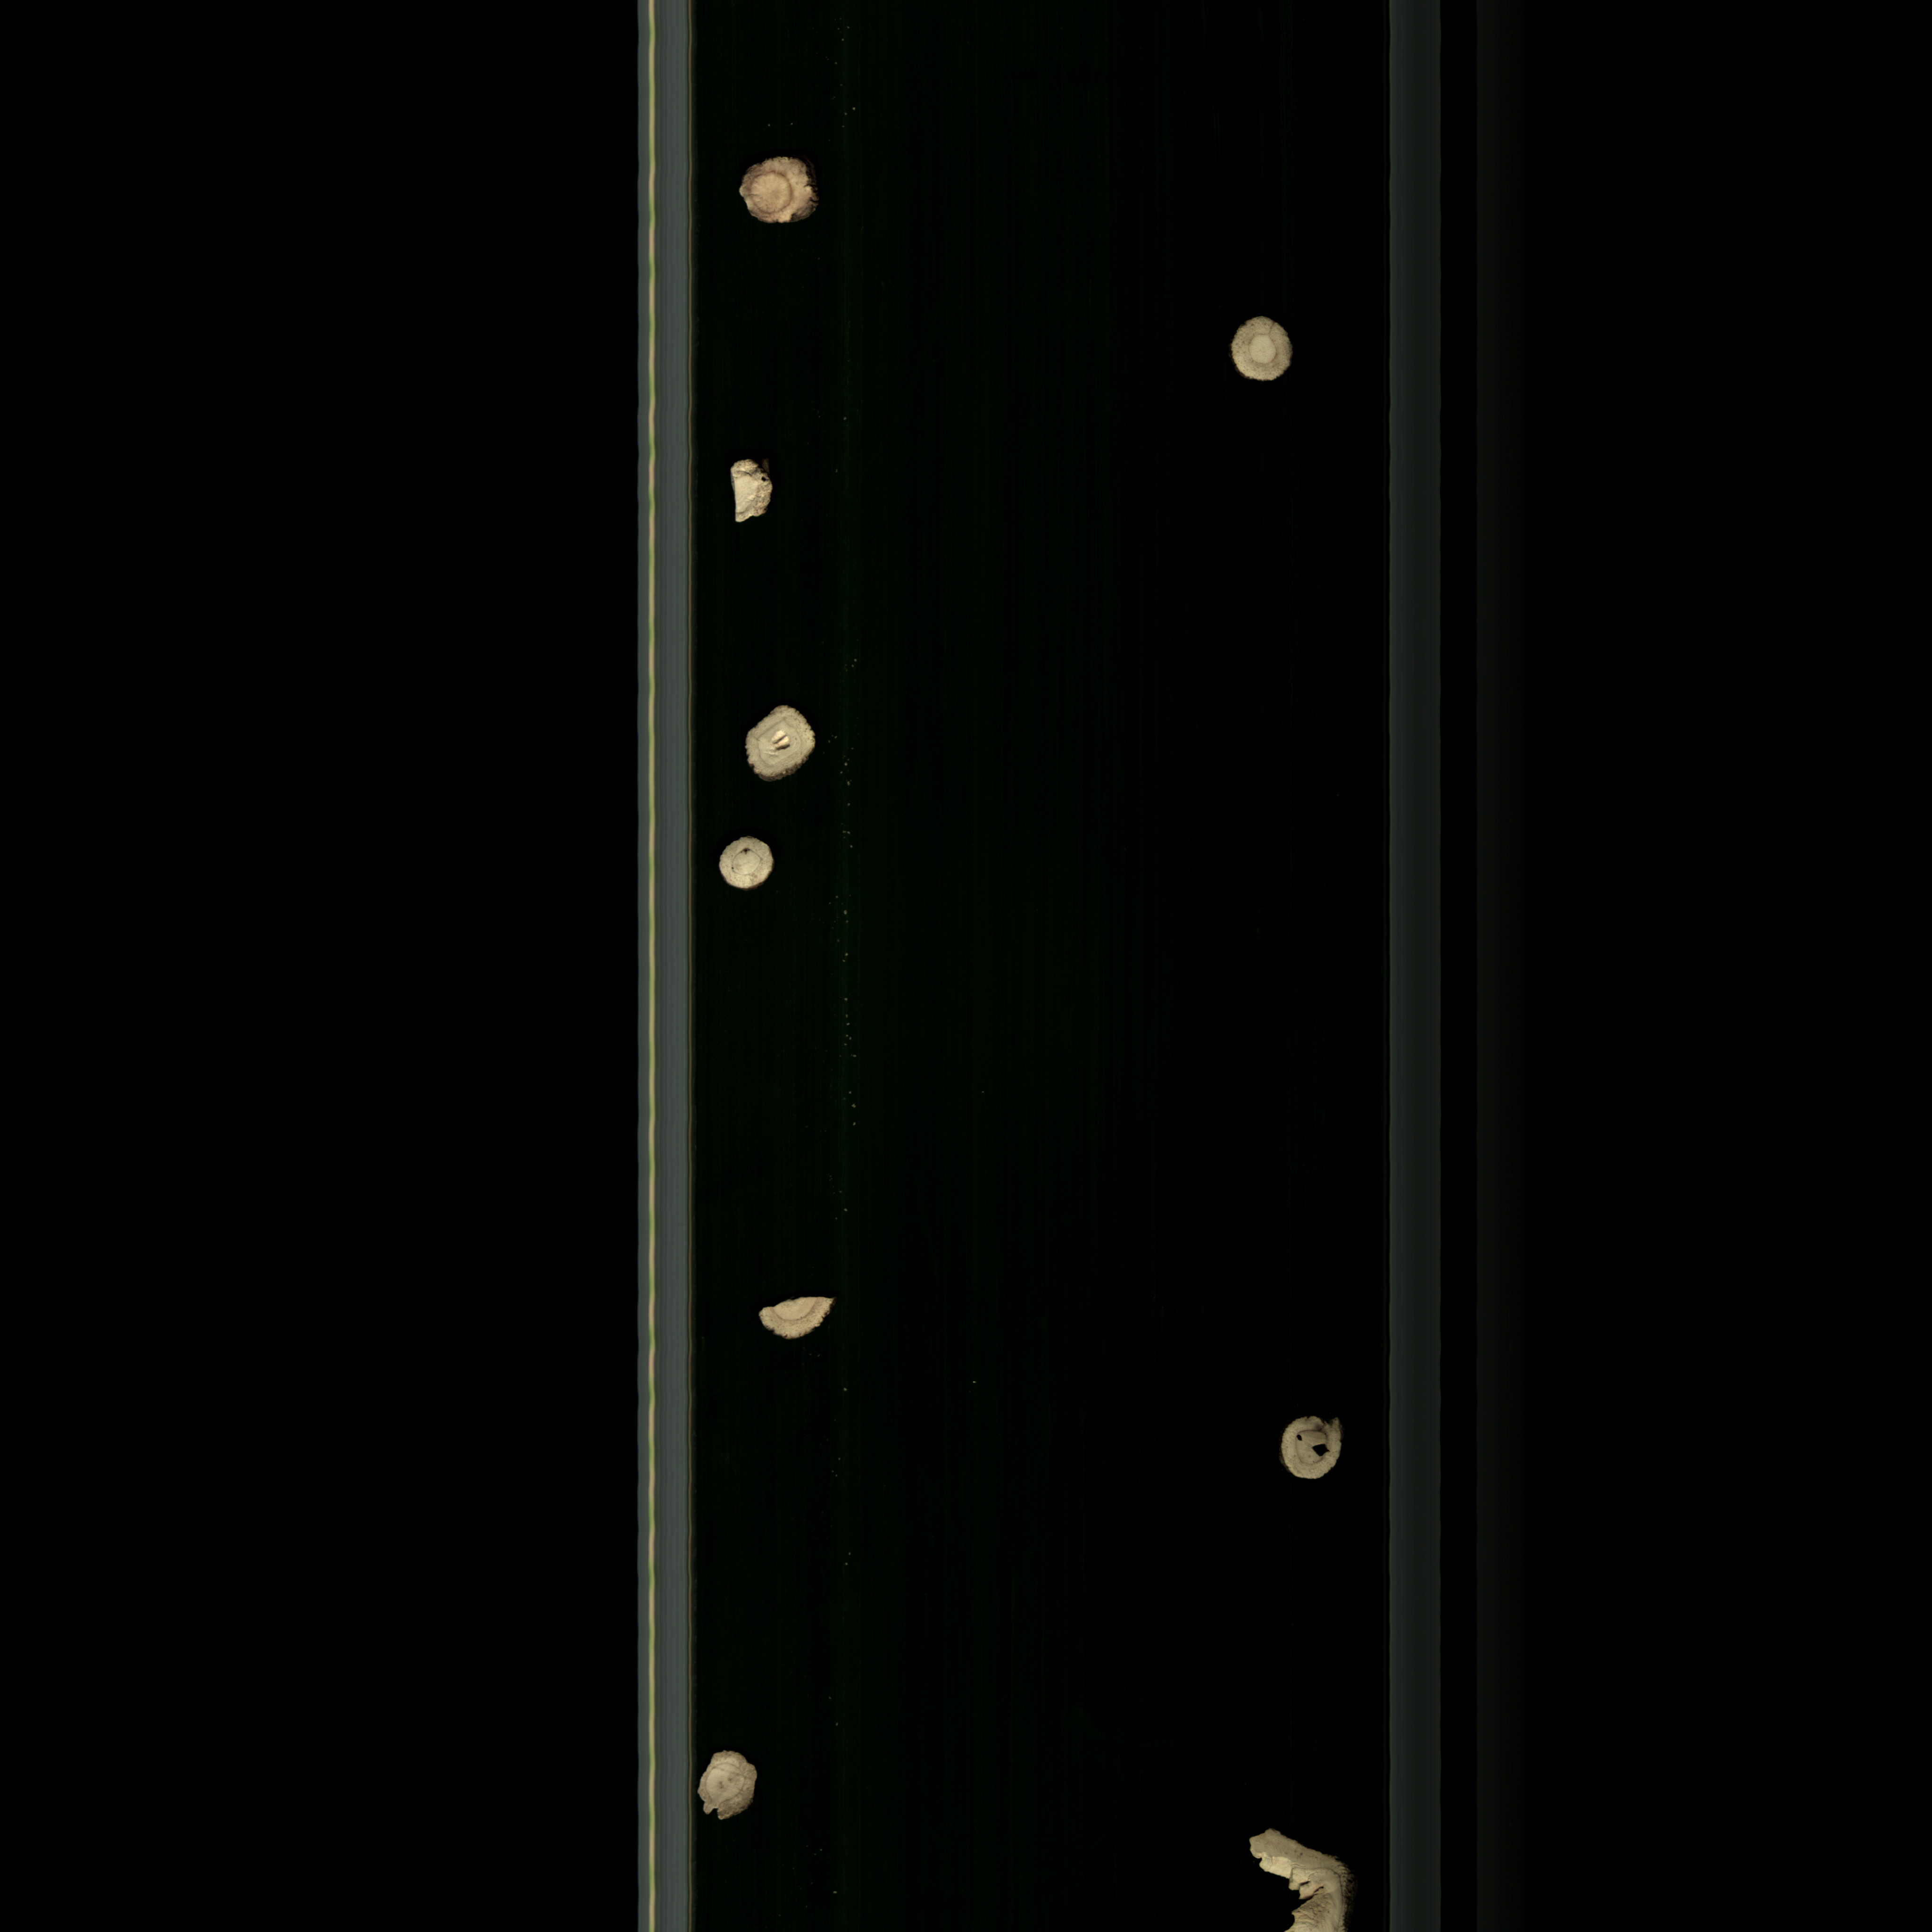debris: (1228, 1805, 1368, 1932), (692, 1743, 809, 1854), (720, 446, 784, 548), (743, 1288, 846, 1341)
hole: (734, 695, 824, 794), (1265, 1401, 1345, 1497), (711, 833, 805, 908)
moldy: (732, 145, 840, 230)
